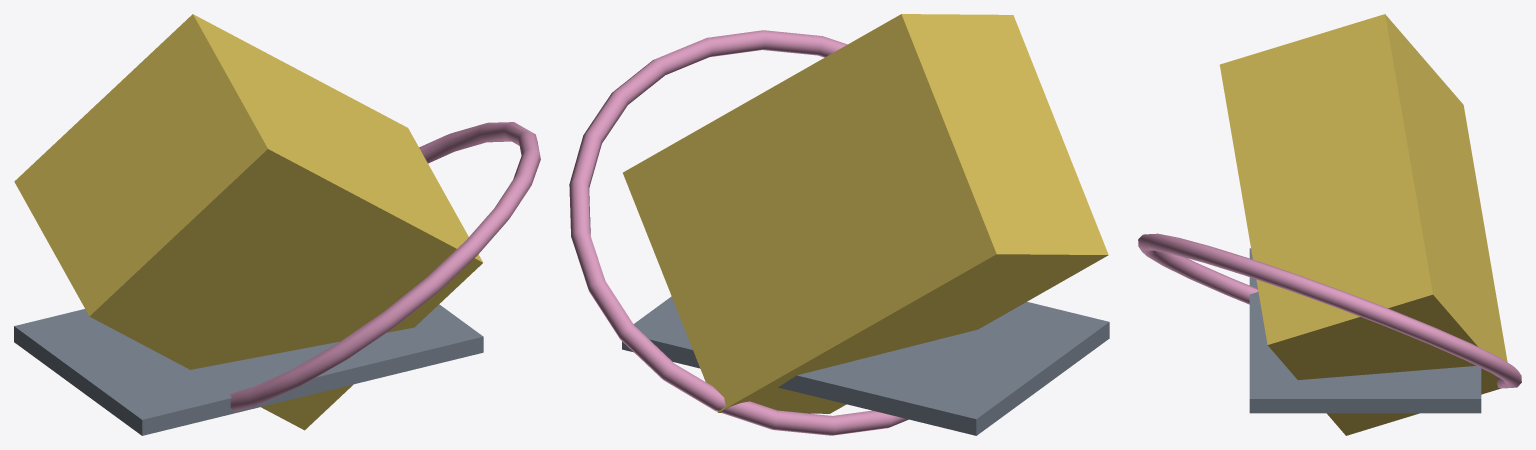
The model's file is ferris-wheel-wreck.glb.
3 renders of one model, left to right at view 1: azimuth 30°, elevation 25°; view 2: azimuth 150°, elevation 25°; view 3: azimuth 270°, elevation 25°, orthographic. The views are drawn at different scales.
Visible parts, largest first — view 1: Root; view 2: Root; view 3: Root.
Part boxes in pixels (x1,y1,x2,y2): Root: (14, 14, 540, 435); Root: (569, 14, 1109, 435); Root: (1138, 14, 1521, 435).
Size of the model in its own units: 13.34 by 11.83 by 10.77.
